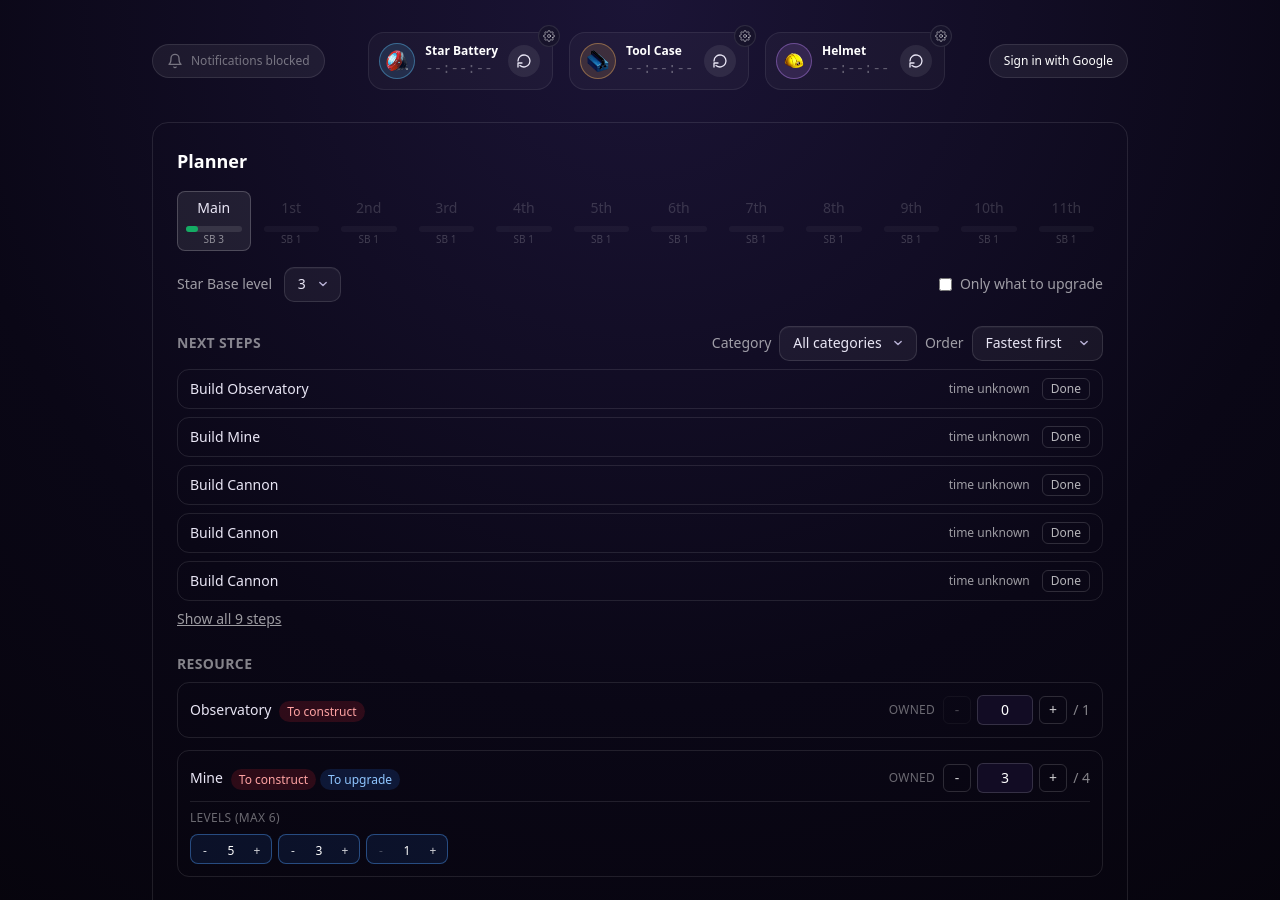
Test: App › Planner › Buildings › removes the lowest-level instance when the count is lowered with the button
The width and height of the screenshot is (1280, 900).
Click the button named "Decrease Mine owned" at coordinates (957, 778), box [943,764,971,792]
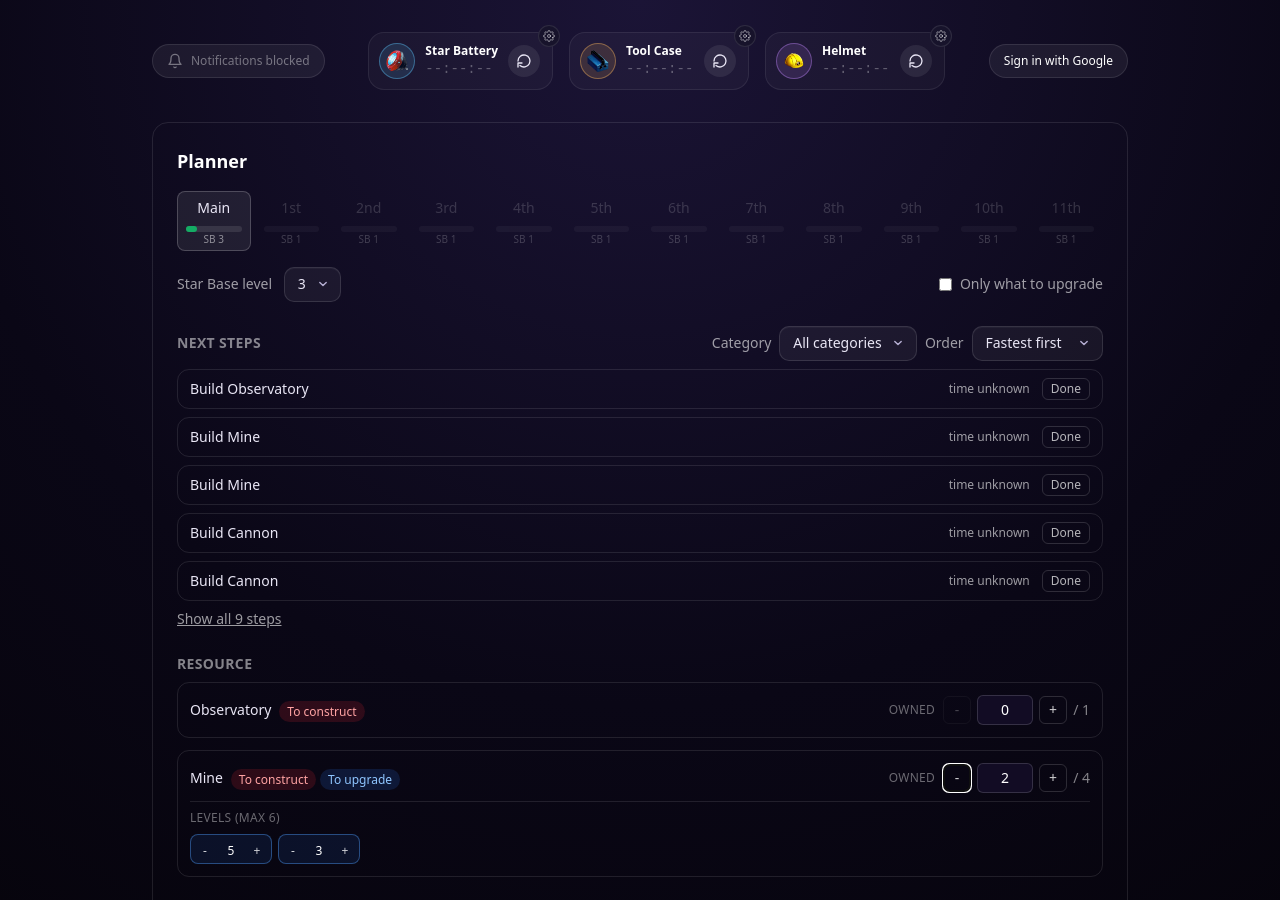
Check: the number field named "Mine owned" holds "2", box [977,763,1033,793]
